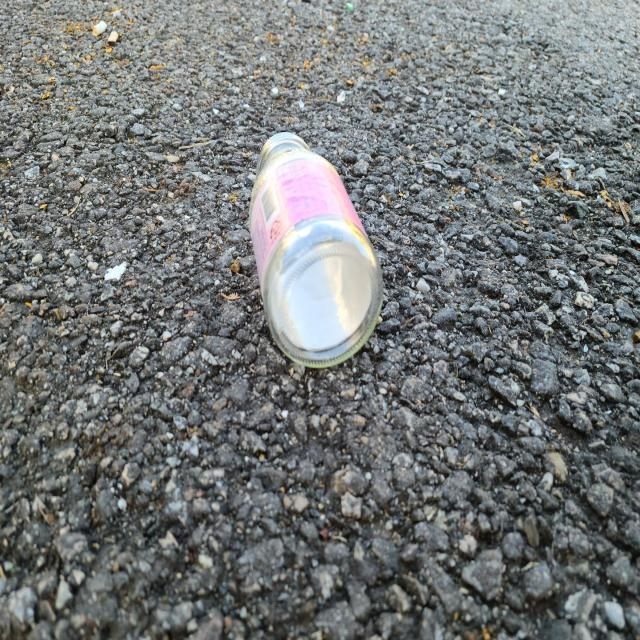glass: (250, 132, 384, 367)
